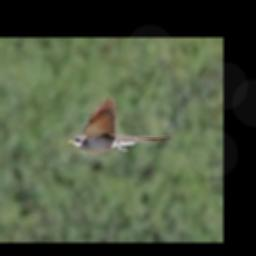Cuckoo: (66, 95, 170, 151)
